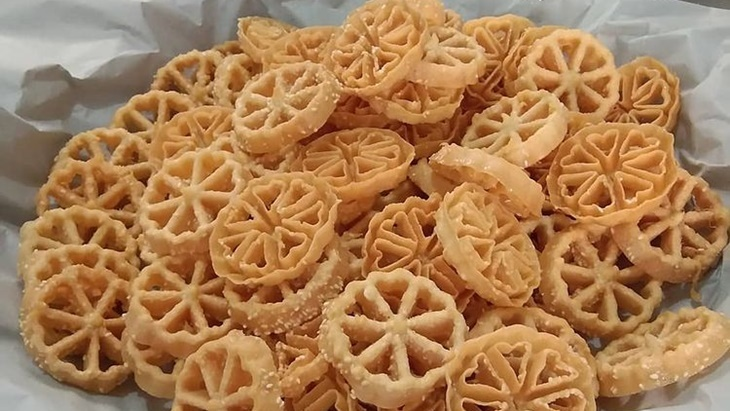kembang_goyang: (321, 259, 458, 401), (554, 116, 682, 233), (216, 176, 340, 272), (237, 64, 331, 150)
